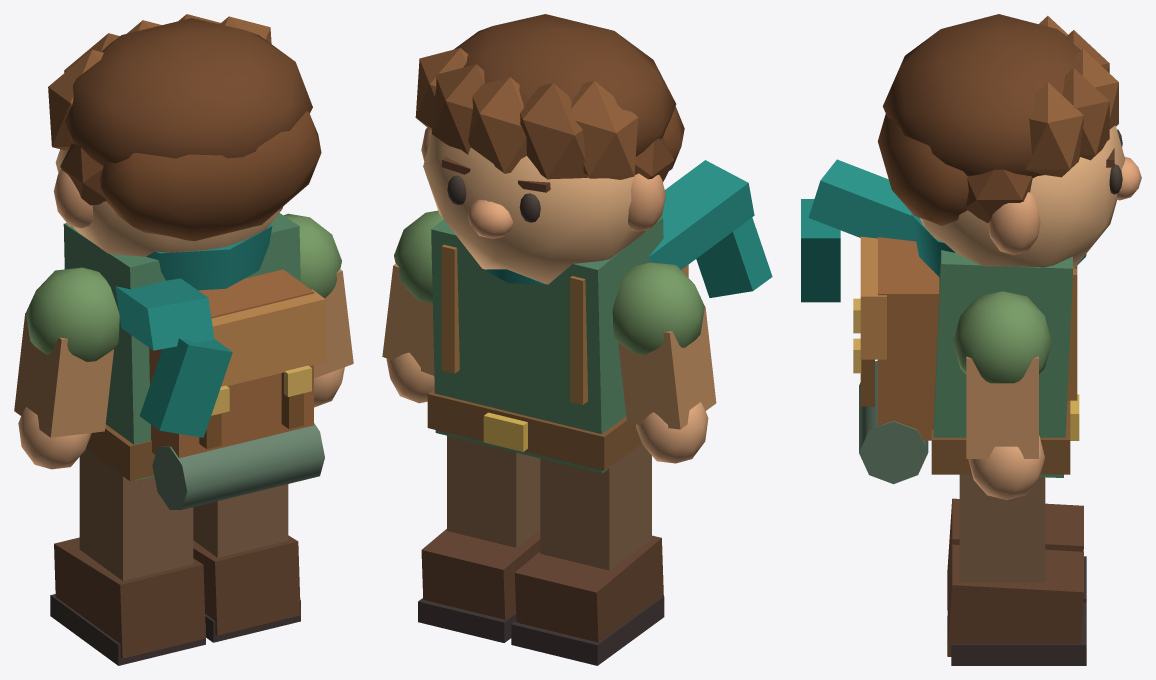
The model's file is leo.glb.
3 views of the same model, side by side, from view 1: azimuth 30°, elevation 25°; view 2: azimuth 150°, elevation 25°; view 3: azimuth 270°, elevation 25° (orthographic).
Visible parts, largest first — view 1: object 25, Leg0, Arm0, object 26, Leg1, object 3, object 16, object 8, object 9, object 36, Arm1, object 35 (+10 smaller); view 2: object 3, Leg0, Leg1, object 17, Arm0, object 25, Arm1, object 35, object 4, object 27, object 28, object 29 (+10 smaller); view 3: Leg1, object 25, Arm1, object 3, object 17, object 8, object 35, object 26, object 31, object 16, object 36, object 9 (+10 smaller).
Part boxes in pixels (x1,y1,x2,y2): object 25: (64, 18, 312, 165); Leg0: (50, 449, 205, 665); Arm0: (14, 267, 119, 469); object 26: (99, 111, 321, 241); Leg1: (193, 484, 300, 642); object 3: (63, 213, 300, 480); object 16: (152, 423, 324, 509); object 8: (149, 269, 313, 458); object 9: (211, 289, 325, 386); object 36: (139, 338, 232, 437); Arm1: (284, 213, 353, 407); object 35: (115, 278, 214, 350); object 3: (431, 217, 663, 473); Leg0: (511, 443, 664, 665); Leg1: (418, 435, 540, 642); object 17: (423, 134, 646, 284); Arm0: (612, 262, 716, 463); object 25: (454, 14, 676, 156); Arm1: (382, 210, 443, 403); object 35: (648, 160, 754, 269); object 4: (427, 389, 641, 470); object 27: (571, 80, 638, 179); object 28: (520, 83, 588, 179); object 29: (468, 77, 526, 173); Leg1: (947, 474, 1086, 665); object 25: (882, 14, 1081, 177); Arm1: (953, 291, 1051, 499); object 3: (933, 250, 1072, 477); object 17: (920, 125, 1125, 268); object 8: (878, 237, 939, 440); object 35: (808, 159, 915, 241); object 26: (877, 114, 968, 225); object 31: (1025, 82, 1083, 177); object 16: (859, 360, 928, 484); object 36: (801, 199, 840, 302); object 9: (860, 236, 886, 359).
Bounding box in the file's own units: 1.1 × 1.97 × 1.03.
